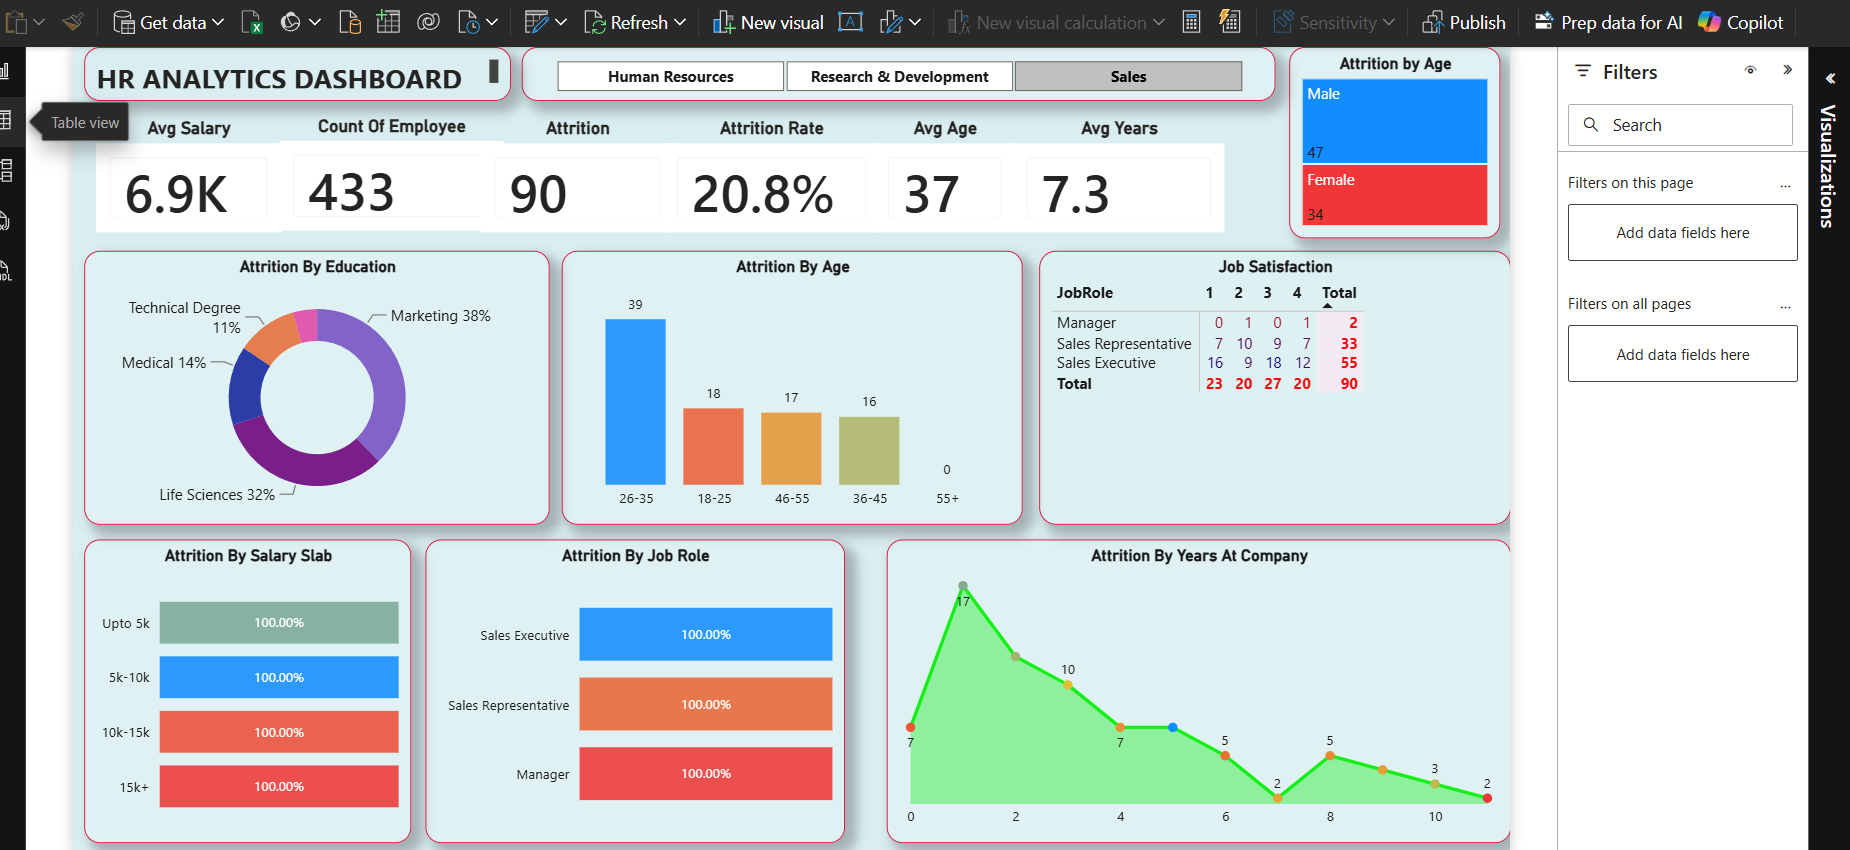

The page's visual inventory and layout, read from the dashboard file:
{"tool":"powerbi","page":{"name":"Page 1","canvas":[1280,720],"ordinal":0},"visuals":[{"type":"cardVisual","title":"Count Of Employee ","fields":{"Data":["CountNonNull(HR_Analytics.EmpID)"]},"box":[179.8,61.7,209.9,108.4],"z":0},{"type":"cardVisual","title":"Attrition","fields":{"Data":["Sum(HR_Analytics.AttritionCount)"]},"box":[358.1,63.1,182.5,107],"z":1000},{"type":"cardVisual","title":"Attrition Rate ","fields":{"Data":["HR_Analytics.AttritionRate"]},"box":[521.4,63.1,203.1,107],"z":2000},{"type":"cardVisual","title":"Avg Age","fields":{"Data":["Avg(HR_Analytics.Age)"]},"box":[709.4,63.1,135.8,107],"z":3000},{"type":"cardVisual","title":"Avg Salary","fields":{"Data":["Avg(HR_Analytics.MonthlyIncome)"]},"box":[15.1,63.1,175.6,107],"z":4000},{"type":"cardVisual","title":"Avg Years ","fields":{"Data":["Avg(HR_Analytics.YearsAtCompany)"]},"box":[832.9,63.1,199,107],"z":5000},{"type":"donutChart","title":"Attrition By Education","fields":{"Category":["HR_Analytics.EducationField"],"Y":["Sum(HR_Analytics.AttritionCount)"]},"box":[9.6,181.1,414.4,244.3],"z":6000},{"type":"pivotTable","title":"Job Satisfaction ","fields":{"Rows":["HR_Analytics.JobRole"],"Values":["Sum(HR_Analytics.AttritionCount)"],"Columns":["HR_Analytics.JobSatisfaction"]},"box":[860.4,181.1,419.9,244.3],"z":7000},{"type":"columnChart","title":"Attrition By Age","fields":{"Category":["HR_Analytics.AgeGroup"],"Y":["Sum(HR_Analytics.AttritionCount)"]},"box":[434.9,181.4,410.5,244.2],"z":8000},{"type":"hundredPercentStackedBarChart","title":"Attrition By Salary Slab","fields":{"Category":["HR_Analytics.SalarySlab"],"Y":["Sum(HR_Analytics.AttritionCount)"]},"box":[9.6,439.1,290.9,270.3],"z":9000},{"type":"hundredPercentStackedBarChart","title":"Attrition By Job Role","fields":{"Category":["HR_Analytics.JobRole"],"Y":["Sum(HR_Analytics.AttritionCount)"]},"box":[314.2,439.1,373.2,270.3],"z":10000},{"type":"areaChart","title":"Attrition By Years At Company","fields":{"Category":["HR_Analytics.YearsAtCompany"],"Y":["Sum(HR_Analytics.AttritionCount)"]},"box":[724.5,439.1,555.7,270.3],"z":11000},{"type":"treemap","title":"Attrition by Age","fields":{"Group":["HR_Analytics.Gender"],"Values":["Sum(HR_Analytics.AttritionCount)"]},"box":[1082.7,0,188,170.2],"z":12000},{"type":"slicer","fields":{"Values":["HR_Analytics.Department"]},"box":[399.3,0,671,48],"z":13000},{"type":"textbox","box":[9.6,0,380.1,48],"z":14000}]}

Visuals, with their boxes on the page's 1280x720 design canvas (x1, y1, x2, y2). These are canvas units, not pixel positions in the 1850x850 screenshot, which may show the page scaled, cropped or inside an application window:
"Count Of Employee " cardVisual: 180/62/390/170
"Attrition" cardVisual: 358/63/541/170
"Attrition Rate " cardVisual: 521/63/724/170
"Avg Age" cardVisual: 709/63/845/170
"Avg Salary" cardVisual: 15/63/191/170
"Avg Years " cardVisual: 833/63/1032/170
"Attrition By Education" donutChart: 10/181/424/425
"Job Satisfaction " pivotTable: 860/181/1280/425
"Attrition By Age" columnChart: 435/181/845/426
"Attrition By Salary Slab" hundredPercentStackedBarChart: 10/439/300/709
"Attrition By Job Role" hundredPercentStackedBarChart: 314/439/687/709
"Attrition By Years At Company" areaChart: 724/439/1280/709
"Attrition by Age" treemap: 1083/0/1271/170
slicer - HR_Analytics.Department: 399/0/1070/48
textbox: 10/0/390/48
